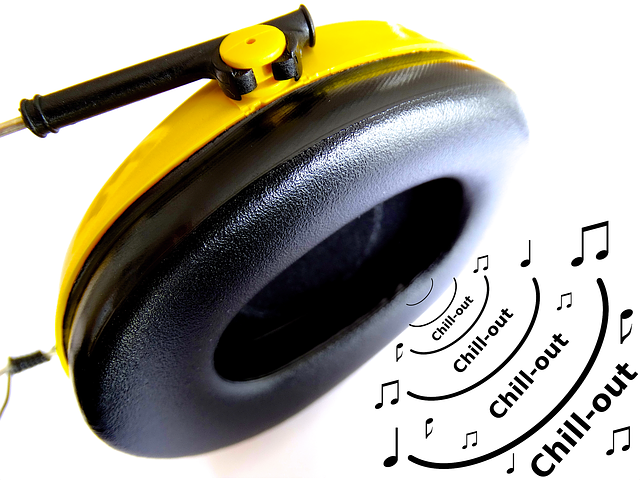headphones: (1, 5, 530, 458)
